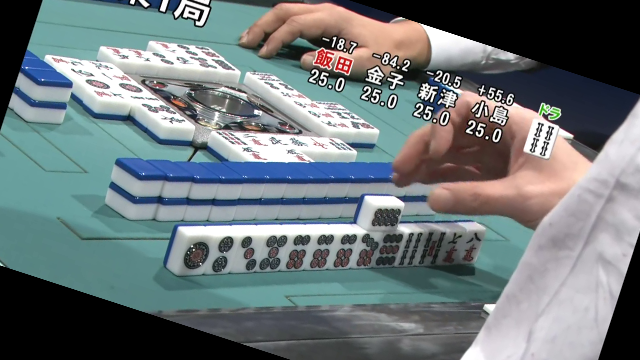Tehai: (175, 220, 483, 282)
